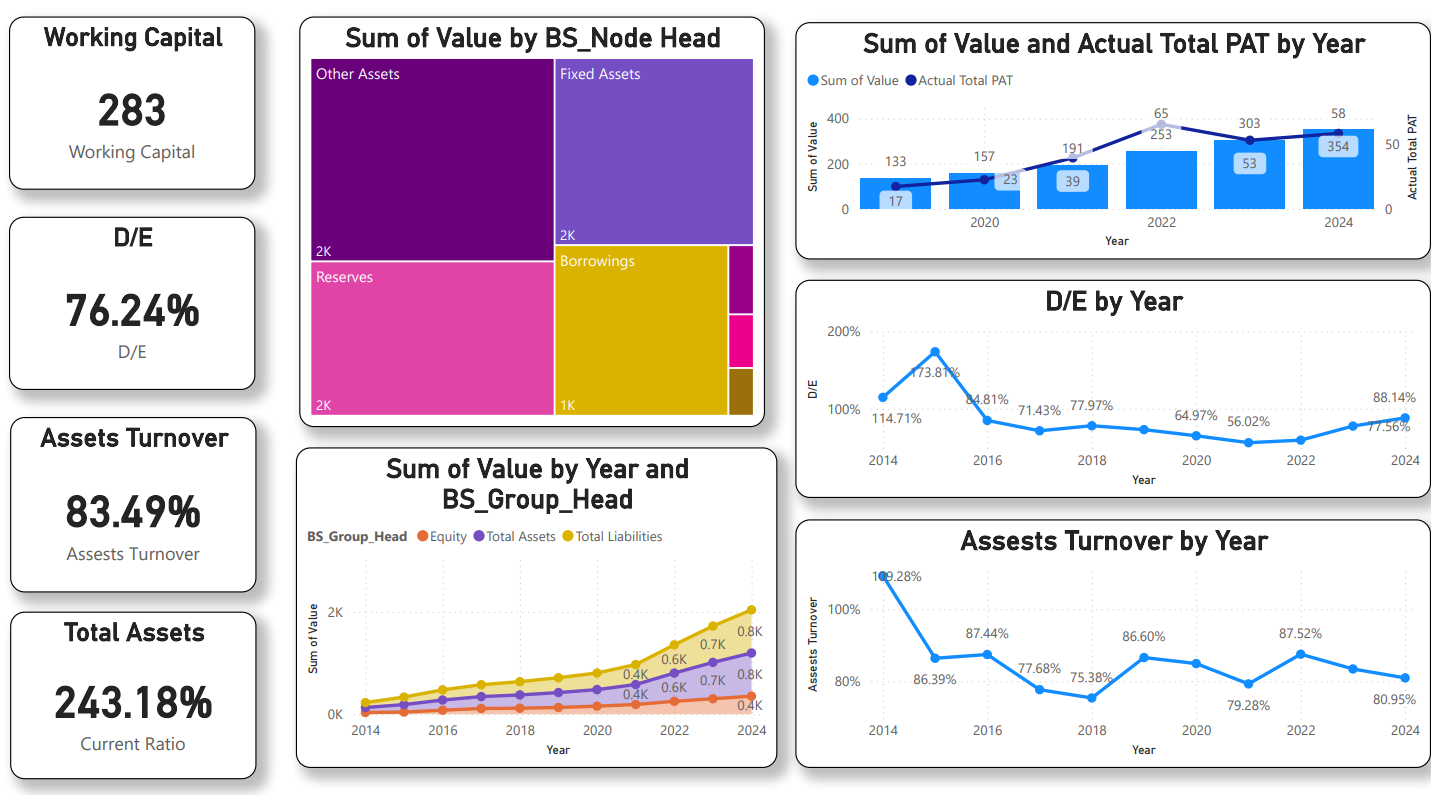

Layout of this report page (visuals, bound fields, positions):
{"tool":"powerbi","page":{"name":"BS Analysis","canvas":[1280,720],"ordinal":6},"visuals":[{"type":"card","title":"D/E","fields":{"Values":["BS Fact.D/E"]},"box":[15.7,206.3,219.6,153.2],"z":0},{"type":"card","title":"Working Capital","fields":{"Values":["BS Fact.Working Capital"]},"box":[15.7,27.7,219.6,154.4],"z":1000},{"type":"card","title":"Total Assets","fields":{"Values":["BS Fact.Current Ratio"]},"box":[16.9,557.4,219.6,148.4],"z":2000},{"type":"card","title":"Assets Turnover","fields":{"Values":["BS Fact.Assests Turnover"]},"box":[16.9,383.6,219.6,156.8],"z":3000},{"type":"treemap","fields":{"Values":["Sum(BS Fact.Value)"],"Group":["BS Fact.BS_Node Head"]},"box":[273.9,27.7,413.8,365.6],"z":4000},{"type":"lineStackedColumnComboChart","fields":{"Y2":["P&L Fact.Actual Total PAT"],"Category":["Date Dim.Date.Variation.Date Hierarchy.Year"],"Y":["Sum(BS Fact.Value)"]},"box":[715.4,32.6,564.6,211.1],"z":5000},{"type":"stackedAreaChart","fields":{"Category":["Date Dim.Date.Variation.Date Hierarchy.Year"],"Y":["Sum(BS Fact.Value)"],"Series":["BS Fact.BS_Group_Head"]},"box":[271.4,411.4,427.1,284.7],"z":6000},{"type":"lineChart","fields":{"Category":["Date Dim.Date.Variation.Date Hierarchy.Year"],"Y":["BS Fact.D/E"]},"box":[715.4,261.8,564.6,194.2],"z":7000},{"type":"lineChart","fields":{"Category":["Date Dim.Date.Variation.Date Hierarchy.Year"],"Y":["BS Fact.Assests Turnover"]},"box":[715.4,475.3,564.6,220.8],"z":8000}]}

Visuals, with their boxes in screenshot pixels (x1, y1, x2, y2), scaled from the page's 1280x720 canvas onto the 1446x801 screenshot:
"D/E" card: [x1=18, y1=230, x2=266, y2=400]
"Working Capital" card: [x1=18, y1=31, x2=266, y2=203]
"Total Assets" card: [x1=19, y1=620, x2=267, y2=785]
"Assets Turnover" card: [x1=19, y1=427, x2=267, y2=601]
treemap - Sum(BS Fact.Value) x BS Fact.BS_Node Head: [x1=309, y1=31, x2=777, y2=438]
lineStackedColumnComboChart - P&L Fact.Actual Total PAT x Date Dim.Date.Variation.Date Hierarchy.Year: [x1=808, y1=36, x2=1445, y2=271]
stackedAreaChart - Date Dim.Date.Variation.Date Hierarchy.Year x Sum(BS Fact.Value): [x1=307, y1=458, x2=789, y2=774]
lineChart - Date Dim.Date.Variation.Date Hierarchy.Year x BS Fact.D/E: [x1=808, y1=291, x2=1445, y2=507]
lineChart - Date Dim.Date.Variation.Date Hierarchy.Year x BS Fact.Assests Turnover: [x1=808, y1=529, x2=1445, y2=774]
